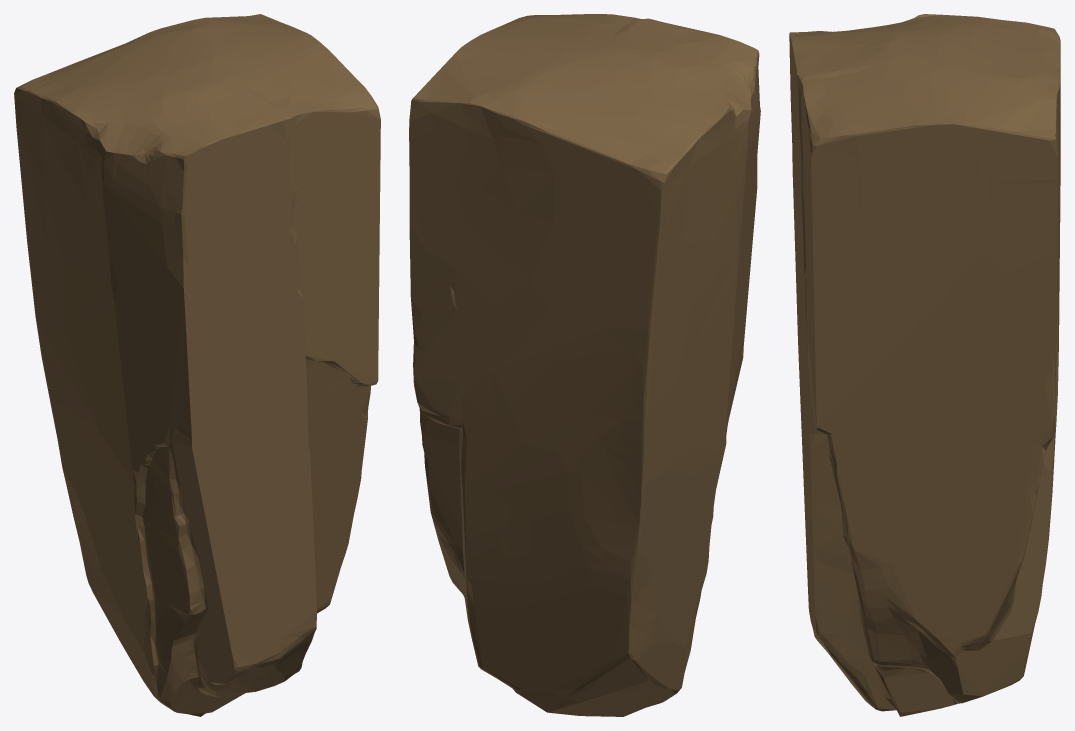
3 renders of one model, left to right at view 1: azimuth 30°, elevation 25°; view 2: azimuth 150°, elevation 25°; view 3: azimuth 270°, elevation 25°, orthographic. The views are drawn at different scales.
Visible parts, largest first — view 1: SM_BM_Cliff_01_LOD0; view 2: SM_BM_Cliff_01_LOD0; view 3: SM_BM_Cliff_01_LOD0.
Boxes of the visible parts, x1=… form: SM_BM_Cliff_01_LOD0: x1=14, y1=14, x2=380, y2=716; SM_BM_Cliff_01_LOD0: x1=409, y1=14, x2=760, y2=716; SM_BM_Cliff_01_LOD0: x1=789, y1=14, x2=1060, y2=716.
Bounding box in the file's own units: 6.18 × 15.24 × 5.71.
